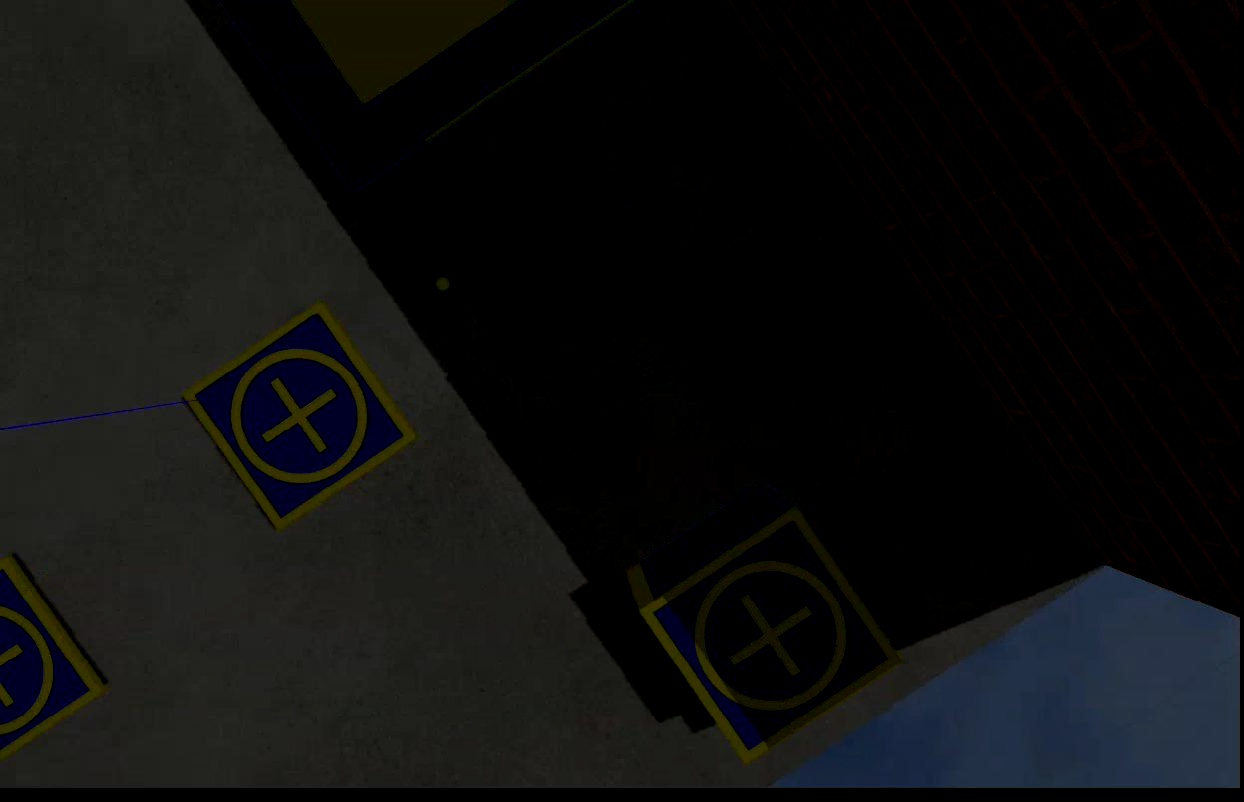large_base: (217, 1, 655, 183)
small_base: (643, 503, 903, 761), (184, 301, 415, 535), (0, 546, 113, 761)
